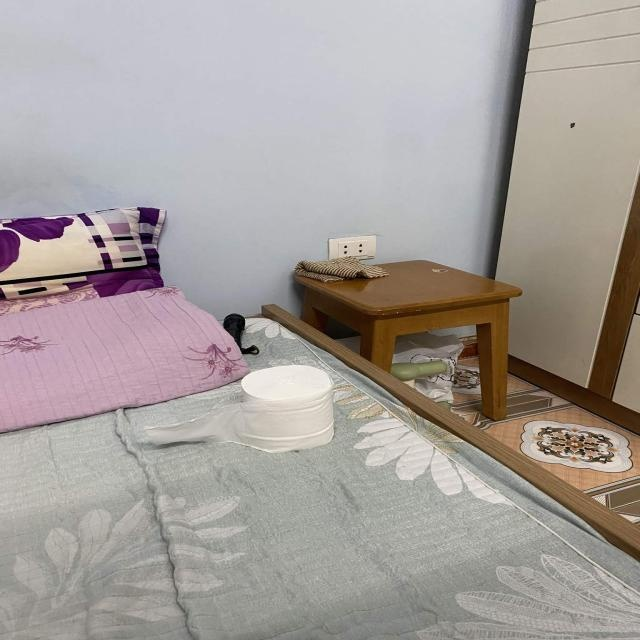outlet: (327, 235, 376, 261)
